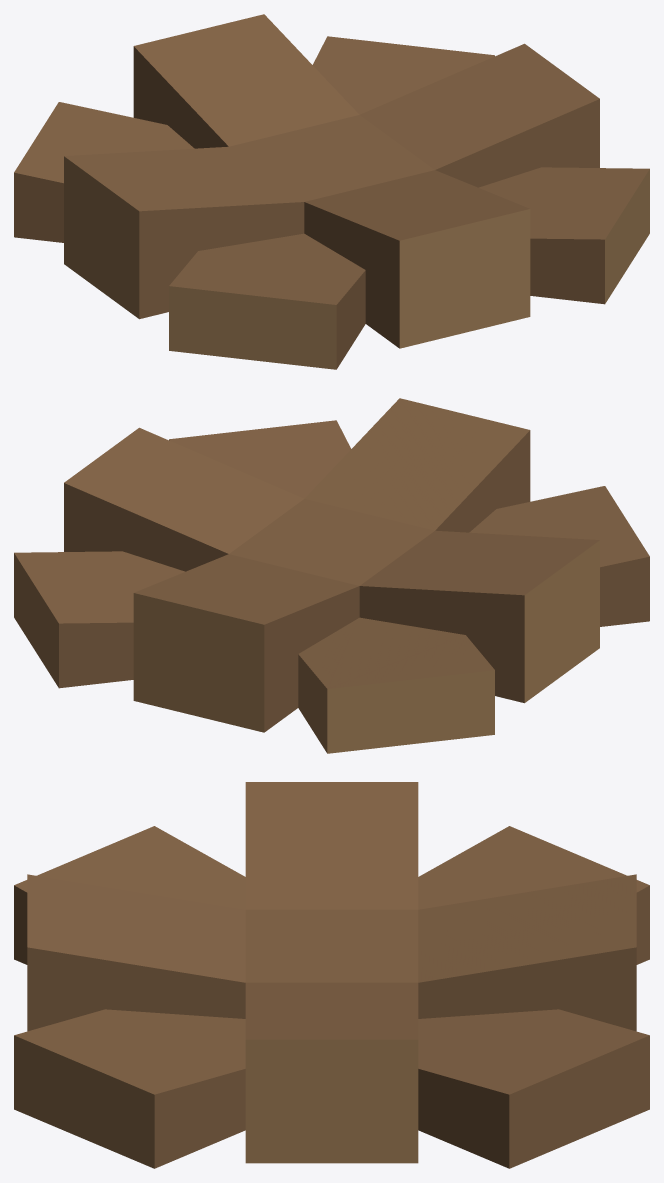
File: campfire_logs.glb
3 views of the same model, one above another, from view 1: azimuth 30°, elevation 25°; view 2: azimuth 150°, elevation 25°; view 3: azimuth 270°, elevation 25° (orthographic). The views are drawn at different scales.
Parts seen in each view (by area): view 1: campfire_logs; view 2: campfire_logs; view 3: campfire_logs.
Boxes of the visible parts, x1,y1,x2,y2 form: campfire_logs: (14, 14, 649, 369); campfire_logs: (14, 398, 649, 753); campfire_logs: (14, 782, 649, 1168).
Size of the model in its own units: 0.2919 by 0.0626 by 0.2919.
